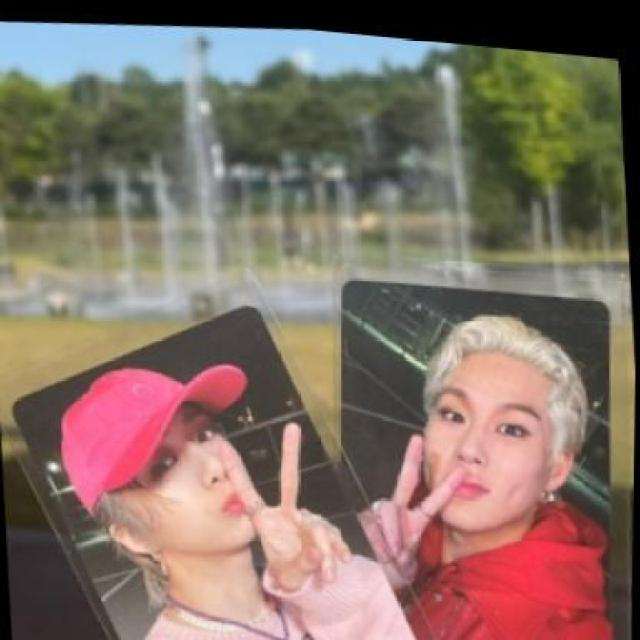hat: (51, 340, 264, 531)
